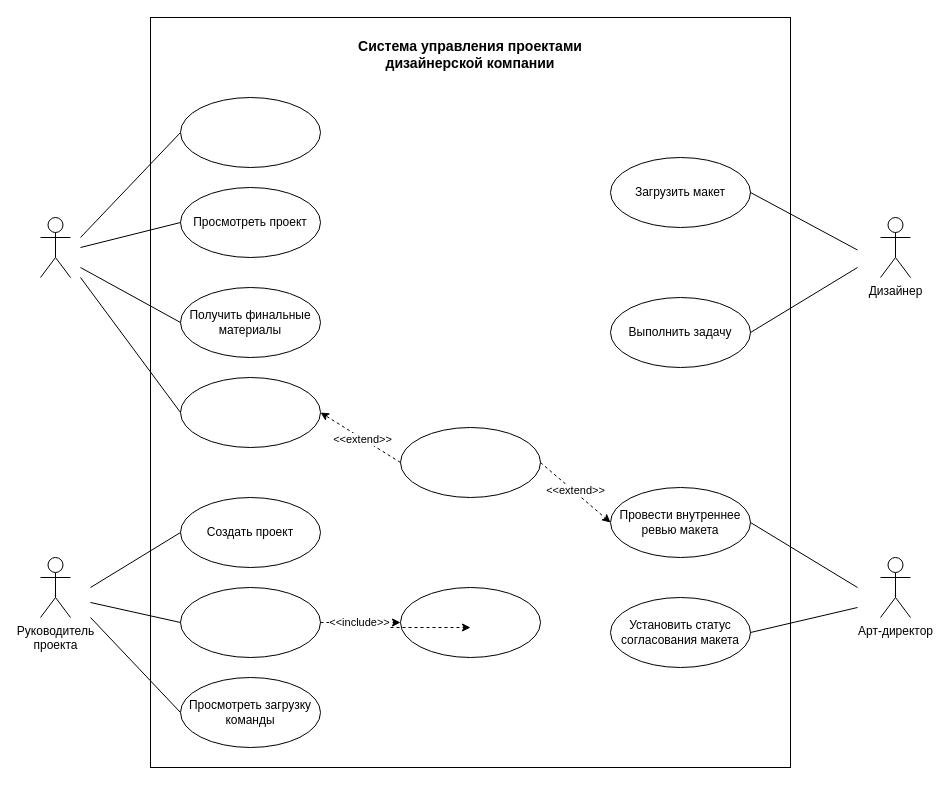
Image size: 950x785. Some labels were removed from this diagram. Here are the shapes that lost their labels. From the top down, the centre of each, then its label:
At pixel 250 132: "Оставить заявку".
At pixel 55 247: "Клиент".
At pixel 250 412: "Согласовать макет".
At pixel 470 462: "Отправить на доработку".
At pixel 250 622: "Создать задачу".
At pixel 470 622: "Назначить ответственного".
